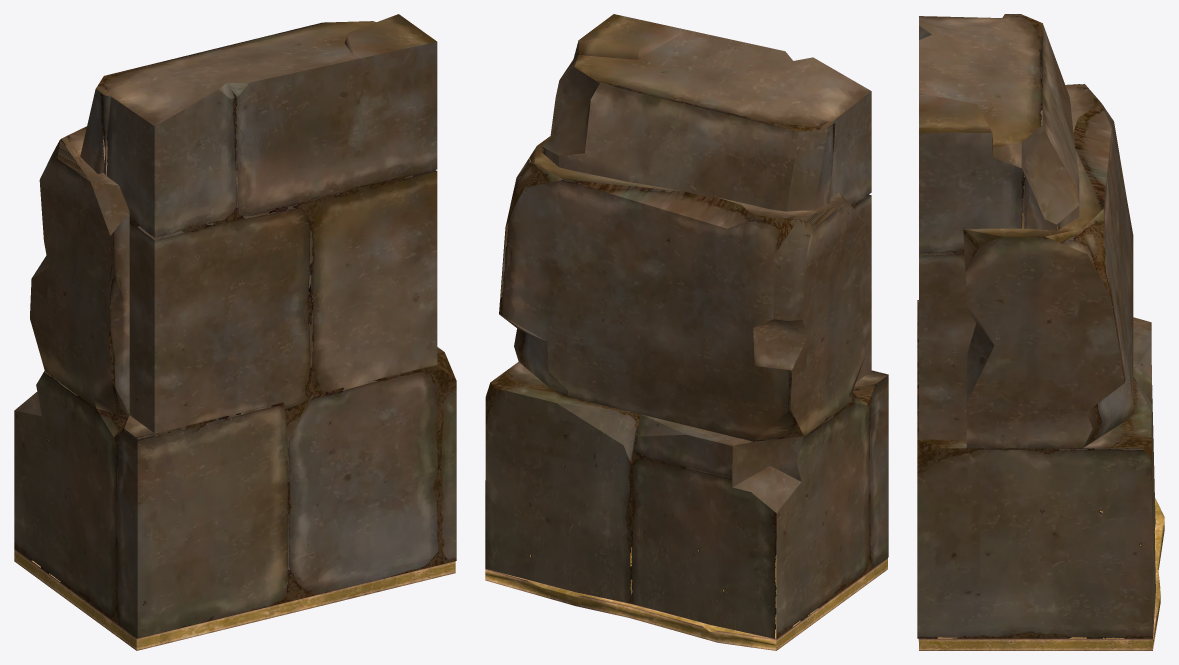
3 renders of one model, left to right at view 1: azimuth 30°, elevation 25°; view 2: azimuth 150°, elevation 25°; view 3: azimuth 270°, elevation 25°, orthographic. The views are drawn at different scales.
Parts seen in each view (by area): view 1: SM_DK_Crumbled_BrickWall_04_LOD0; view 2: SM_DK_Crumbled_BrickWall_04_LOD0; view 3: SM_DK_Crumbled_BrickWall_04_LOD0.
Boxes of the visible parts, <box> form: SM_DK_Crumbled_BrickWall_04_LOD0: <box>14,14,456,650</box>; SM_DK_Crumbled_BrickWall_04_LOD0: <box>485,14,888,650</box>; SM_DK_Crumbled_BrickWall_04_LOD0: <box>917,14,1164,650</box>.
Size of the model in its own units: 2.02 by 3.25 by 1.41.
2 materials, 2 textured.
